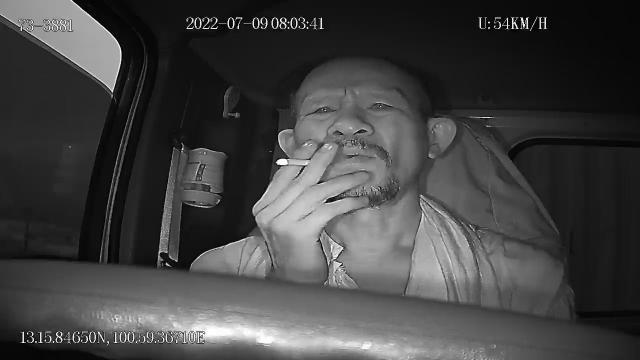SafeDriving: (300, 95, 343, 124), (360, 92, 404, 118)
Smoking: (274, 157, 310, 167)
